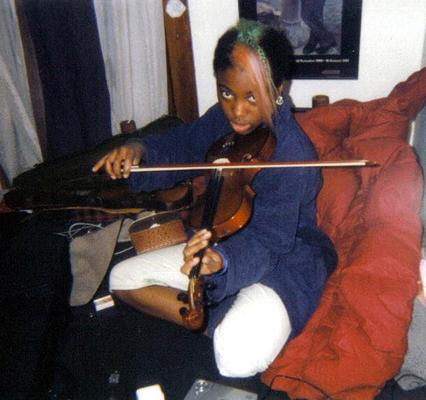person: (93, 20, 337, 380)
